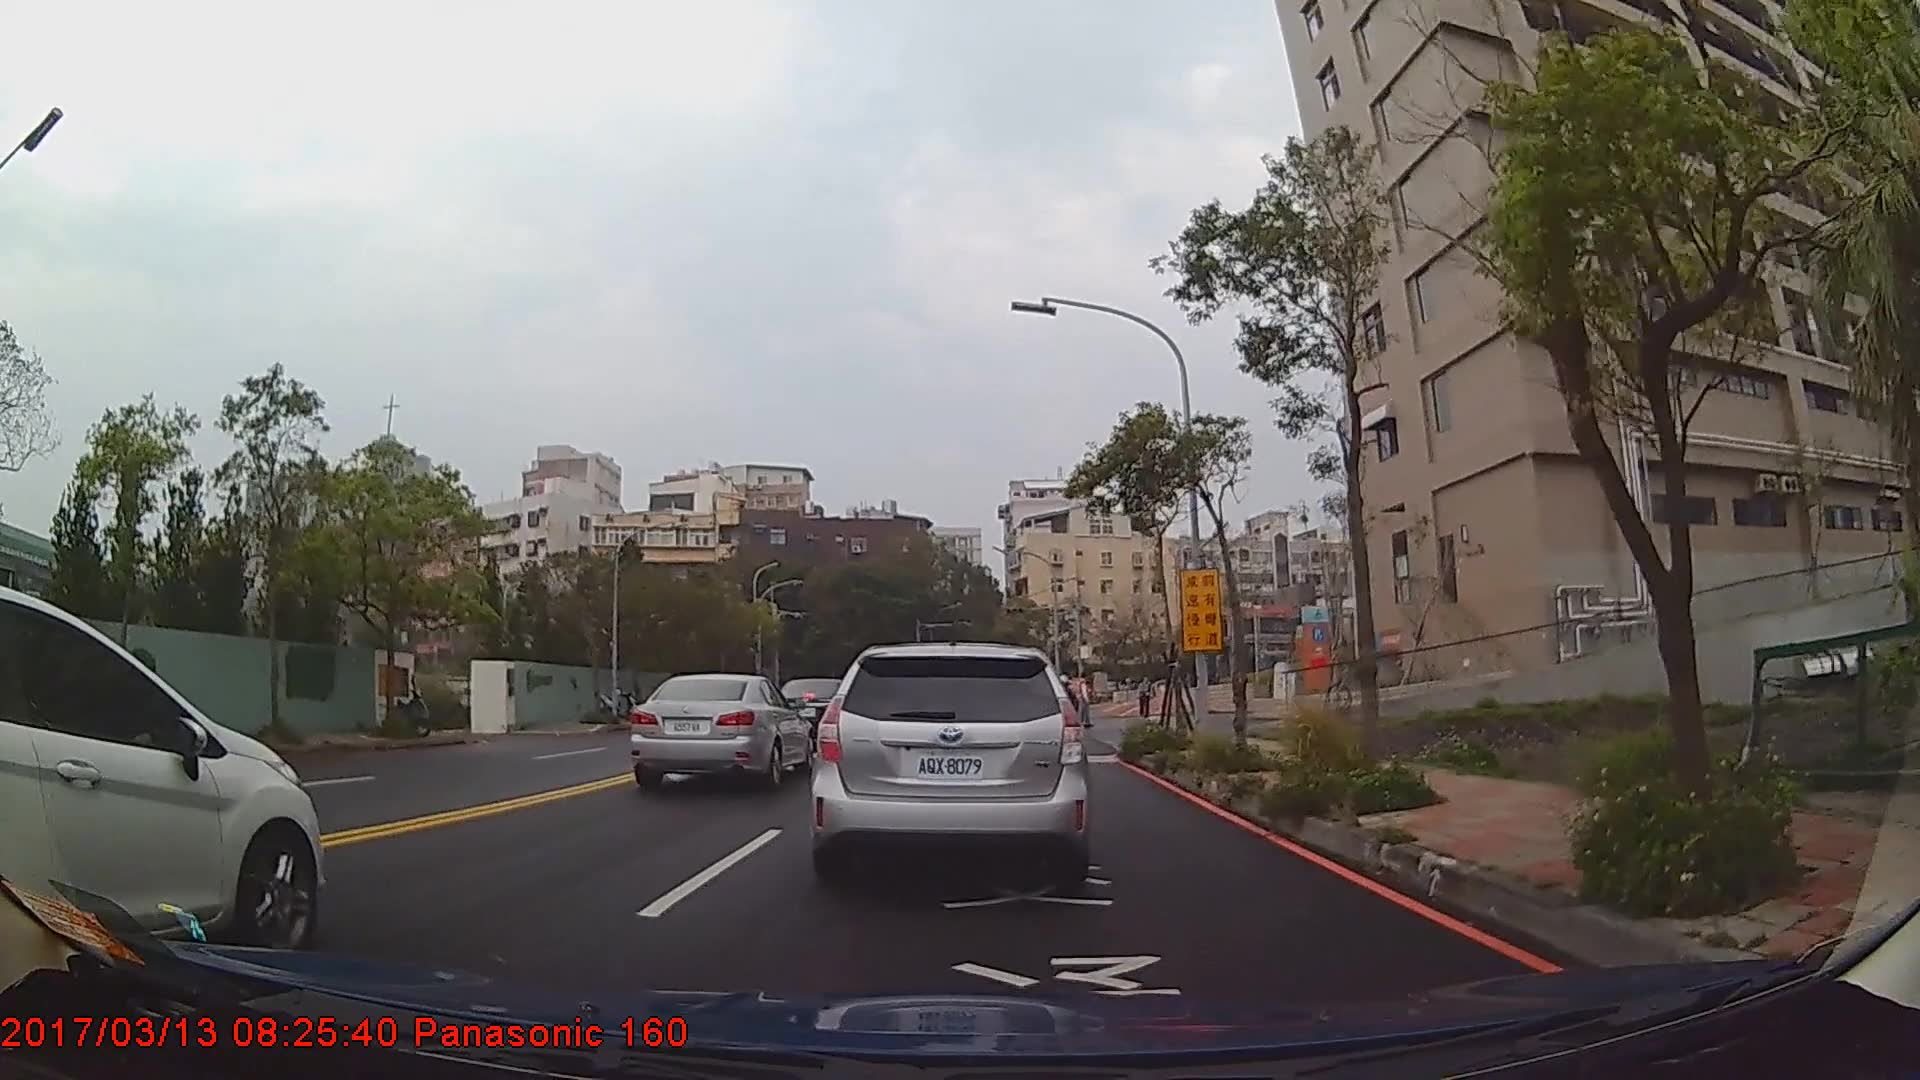pedestrian: (1076, 669, 1096, 729)
vehicle: (0, 581, 323, 962), (811, 637, 1088, 880), (628, 672, 815, 789)
